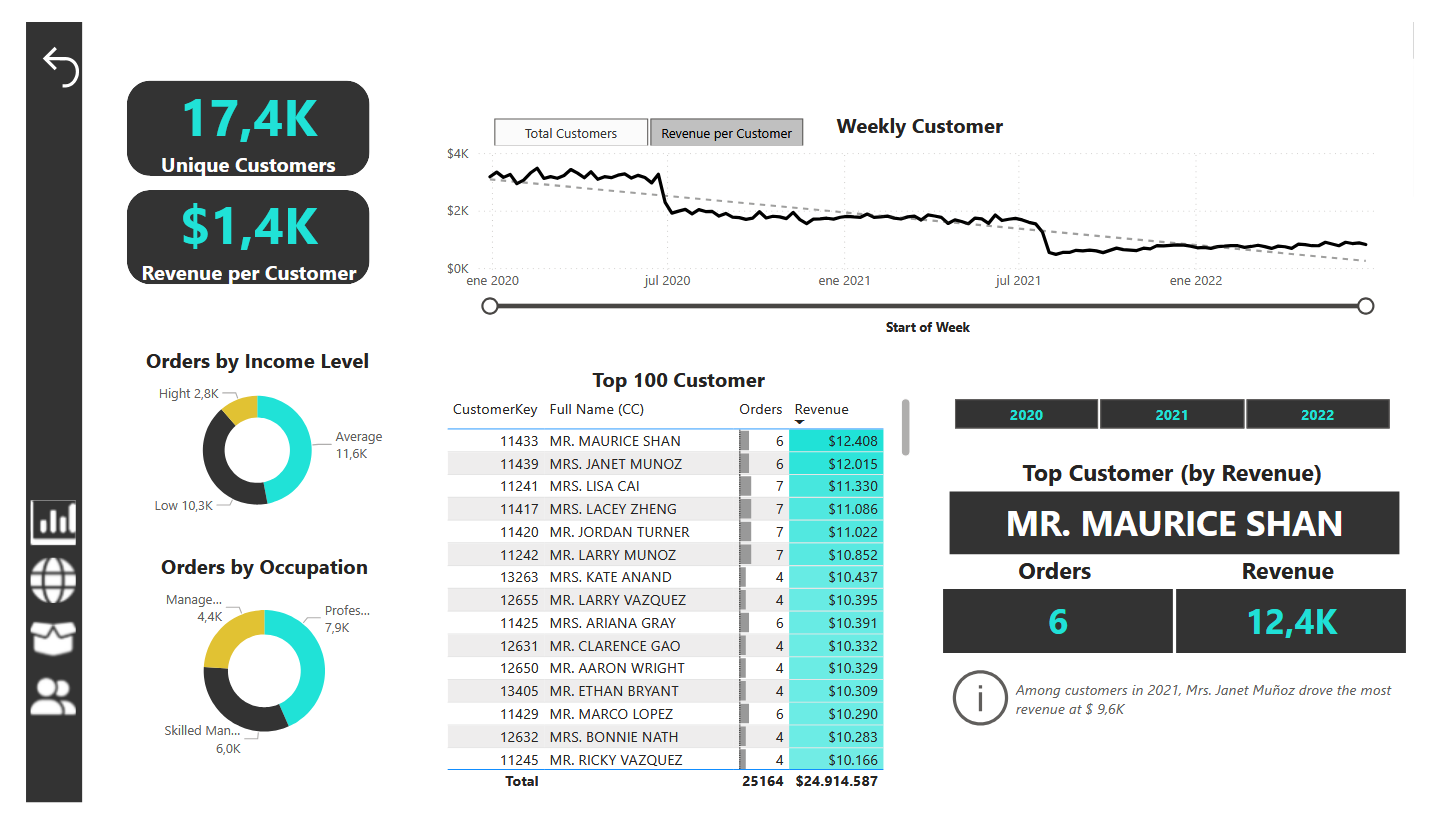

Layout of this report page (visuals, bound fields, positions):
{"tool":"powerbi","page":{"name":"Customer","canvas":[1280,720],"ordinal":3},"visuals":[{"type":"shape","box":[92.6,54.5,224.3,87.2],"z":0,"group":"g1"},{"type":"lineChart","title":"Weekly Customer","fields":{"Y":["Measure Table.Average Revenue per Customer"],"Category":["Calendar Lookup.Year Hierarchy.Year","Calendar Lookup.Year Hierarchy.Start of Month","Calendar Lookup.Year Hierarchy.Start of Week"]},"box":[383.1,82.1,883.2,207.7],"z":0},{"type":"shape","box":[93.3,155.1,223.9,87.1],"z":0,"group":"g2"},{"type":"card","fields":{"Values":["Min(Customer Lookup.Full Name (CC))"]},"box":[851.6,433.1,415,58],"z":0,"group":"g3"},{"type":"actionButton","box":[0,437.4,97,49.8],"z":0,"group":"g6"},{"type":"card","fields":{"Values":["Measure Table.Total Orders (Customer Details)"]},"box":[846.2,523,211.8,58.7],"z":0,"group":"g4"},{"type":"card","fields":{"Values":["Customer Lookup.Total Revenue (Customer Detail)"]},"box":[1060.8,523.6,211.8,58.7],"z":0,"group":"g5"},{"type":"shape","box":[0,0,52.2,720.3],"z":1000},{"type":"card","fields":{"Values":["Measure Table.Total Customers"]},"box":[108.8,42.1,191.6,112],"z":1000,"group":"g1"},{"type":"card","fields":{"Values":["Measure Table.Average Revenue per Customer"]},"box":[85.9,141.5,239.2,112.8],"z":1000,"group":"g2"},{"type":"textbox","box":[848,395,418.6,65.2],"z":1000,"group":"g3"},{"type":"textbox","box":[844.4,485.6,210,65.9],"z":1000,"group":"g4"},{"type":"textbox","box":[1059,486.2,210,65.9],"z":1000,"group":"g5"},{"type":"actionButton","box":[0,544.4,97,49.8],"z":1000,"group":"g6"},{"type":"group","id":"g1","title":"Group 2","box":[92.6,42.1,224,112.8],"z":2000},{"type":"actionButton","box":[0,490.9,97,49.8],"z":2000,"group":"g6"},{"type":"donutChart","title":"Orders by Occupation","fields":{"Y":["Measure Table.Total Orders"],"Category":["Customer Lookup.Occupation"]},"box":[116,489.2,208.4,193.9],"z":3000},{"type":"actionButton","box":[0,597.9,97,49.8],"z":3000,"group":"g6"},{"type":"donutChart","title":"Orders by Income Level","fields":{"Category":["Customer Lookup.Income Level"],"Y":["Measure Table.Total Orders"]},"box":[92.4,299,242.8,166.7],"z":4000},{"type":"group","id":"g2","title":"Group 1","box":[85.9,141.5,239.2,112.8],"z":5000},{"type":"tableEx","title":"Top 100 Customer","fields":{"Values":["Customer Lookup.CustomerKey","Customer Lookup.Full Name (CC)","Measure Table.Total Orders","Measure Table.Total Revenue"]},"box":[383.1,317.2,437.9,398.1],"z":6000},{"type":"group","id":"g3","title":"Group 3","box":[848,395,418.6,96],"z":7000},{"type":"slicer","fields":{"Values":["Calendar Lookup.Year"]},"box":[833.5,340.7,445.8,41.7],"z":8000},{"type":"group","id":"g4","title":"Group 3","box":[844.4,485.6,213.8,96],"z":9000},{"type":"group","id":"g5","title":"Group 3","box":[1059,486.2,213.5,95.2],"z":10000},{"type":"actionButton","box":[848.4,590.9,424.2,64.7],"z":11000},{"type":"actionButton","box":[0,0,65.2,81.5],"z":12000},{"type":"group","id":"g6","title":"Navegation Buttons","box":[0,437.4,97,210.2],"z":13000},{"type":"slicer","fields":{"Values":["Customer Metric Selection.Customer Metric Selection"]},"box":[405.5,82.1,335.9,32.3],"z":14000}]}

Visuals, with their boxes in screenshot pixels (x1, y1, x2, y2), scaled from the page's 1280x720 canvas onto the 1432x822 screenshot:
shape: rect(104, 62, 355, 162)
"Weekly Customer" lineChart: rect(429, 94, 1417, 331)
shape: rect(104, 177, 355, 277)
card - Min(Customer Lookup.Full Name (CC)): rect(953, 494, 1417, 561)
actionButton: rect(0, 499, 109, 556)
card - Measure Table.Total Orders (Customer Details): rect(947, 597, 1184, 664)
card - Customer Lookup.Total Revenue (Customer Detail): rect(1187, 598, 1424, 665)
shape: rect(0, 0, 58, 821)
card - Measure Table.Total Customers: rect(122, 48, 336, 176)
card - Measure Table.Average Revenue per Customer: rect(96, 162, 364, 290)
textbox: rect(949, 451, 1417, 525)
textbox: rect(945, 554, 1180, 630)
textbox: rect(1185, 555, 1420, 630)
actionButton: rect(0, 622, 109, 678)
"Group 2" group: rect(104, 48, 354, 177)
actionButton: rect(0, 560, 109, 617)
"Orders by Occupation" donutChart: rect(130, 559, 363, 780)
actionButton: rect(0, 683, 109, 739)
"Orders by Income Level" donutChart: rect(103, 341, 375, 532)
"Group 1" group: rect(96, 162, 364, 290)
"Top 100 Customer" tableEx: rect(429, 362, 918, 817)
"Group 3" group: rect(949, 451, 1417, 561)
slicer - Calendar Lookup.Year: rect(932, 389, 1431, 437)
"Group 3" group: rect(945, 554, 1184, 664)
"Group 3" group: rect(1185, 555, 1424, 664)
actionButton: rect(949, 675, 1424, 748)
actionButton: rect(0, 0, 73, 93)
"Navegation Buttons" group: rect(0, 499, 109, 739)
slicer - Customer Metric Selection.Customer Metric Selection: rect(454, 94, 829, 131)
